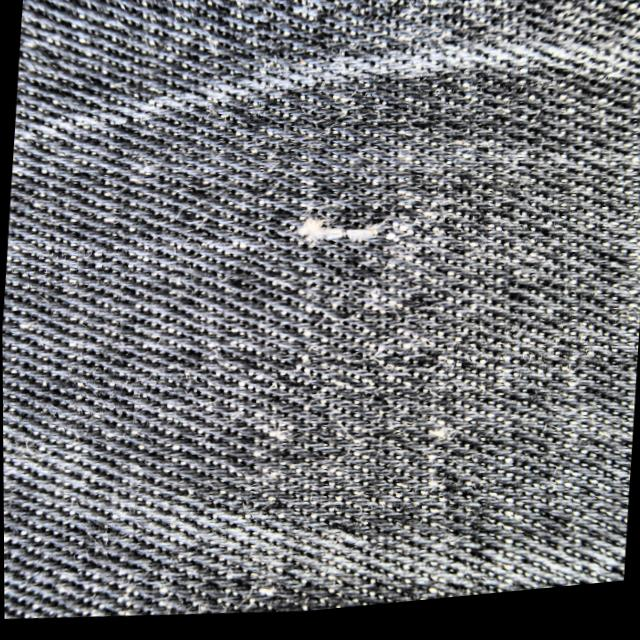Hole: (293, 221, 382, 252)
